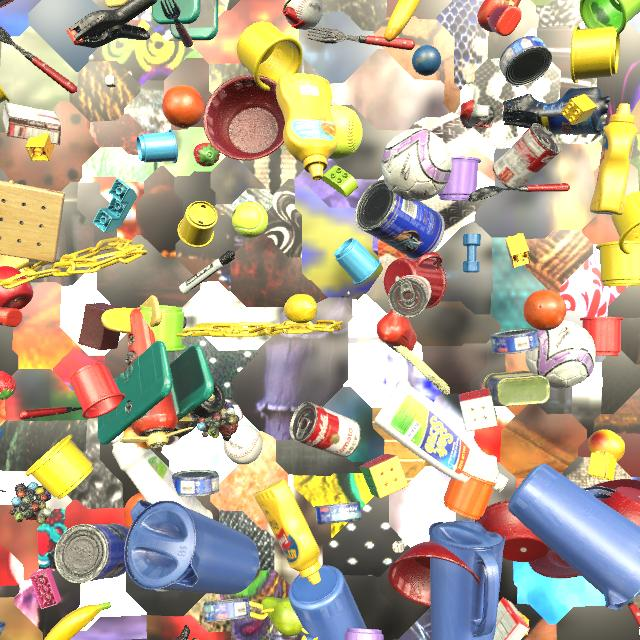ycb_002_master_chef_can: (355, 179, 445, 260), (54, 524, 129, 583)
ycb_005_tomato_soup_can: (492, 123, 561, 191), (290, 402, 361, 457), (388, 275, 431, 318)
ycb_006_mustard_bottle: (254, 479, 321, 585), (276, 73, 339, 180), (590, 103, 638, 215)
ycb_007_tuna_fish_can: (499, 36, 552, 87), (490, 328, 540, 354), (172, 470, 219, 497), (204, 597, 251, 622), (315, 501, 362, 525), (0, 620, 6, 635)
ycb_008_pudding_box: (2, 102, 61, 145)
ycb_009_gelatin_box: (494, 598, 530, 640)
ycb_010_potted_meat_can: (483, 370, 550, 406)
ycb_011_banana: (44, 602, 111, 640), (384, 0, 421, 42)
ycb_012_strawberry: (193, 142, 220, 167), (0, 371, 16, 400)
ycb_013_apple: (0, 266, 33, 310)
ycb_014_lemon: (284, 294, 317, 324)
ycb_015_peach: (588, 429, 625, 462), (123, 426, 150, 450)
ycb_016_pear: (261, 597, 303, 636)
ycb_017_orange: (162, 85, 204, 128), (523, 290, 566, 331), (124, 493, 146, 529)
